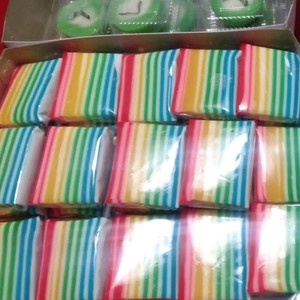kue_lapis_pelangi: (186, 114, 253, 210), (30, 124, 104, 210), (113, 125, 183, 211), (184, 207, 248, 300), (111, 214, 180, 299), (112, 47, 183, 124), (45, 220, 112, 300), (172, 48, 241, 115), (55, 50, 117, 121), (239, 45, 300, 117)
